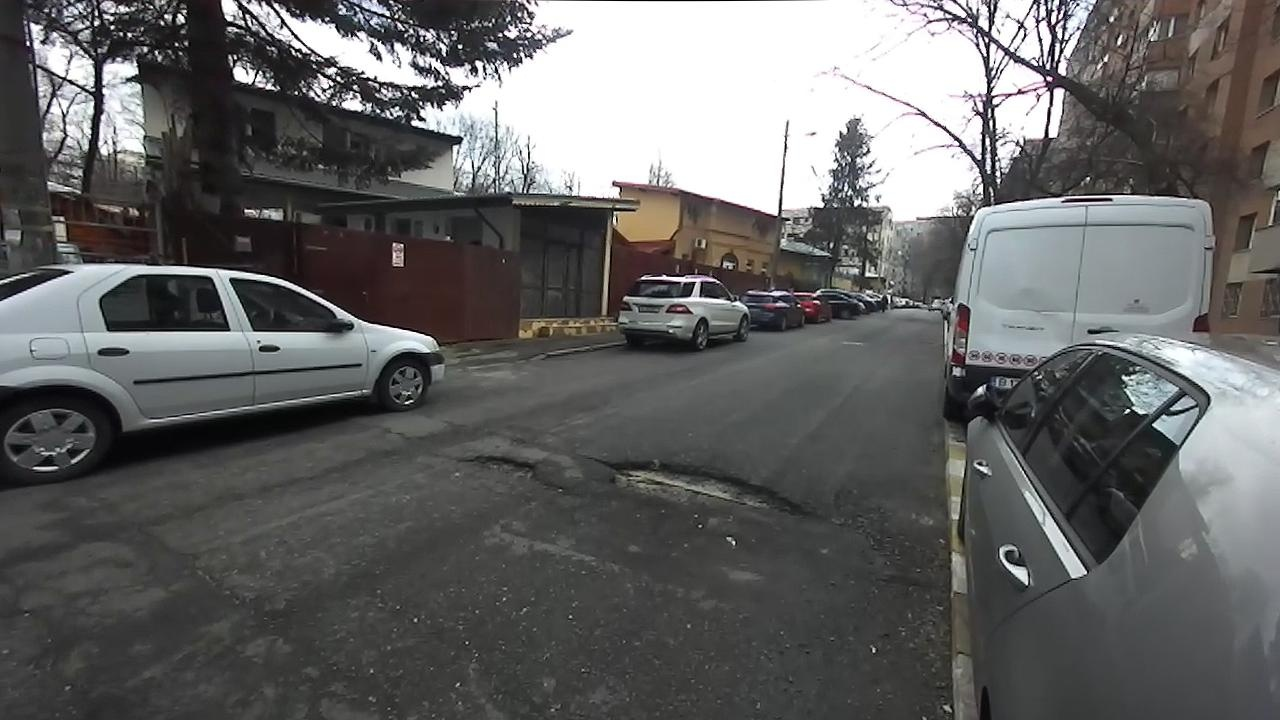pothole: (581, 449, 834, 531), (450, 450, 566, 491)
